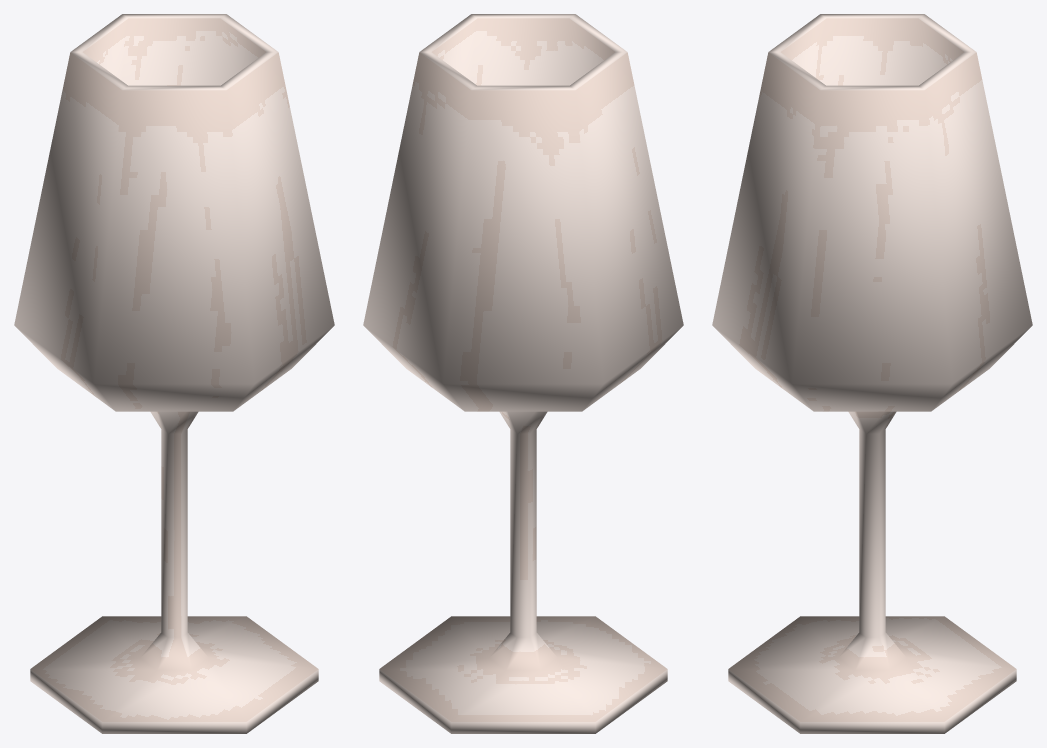
Rendered from ScaledGlassTest.glb.
The picture shows the model from 3 angles, left to right: view 1: azimuth 30°, elevation 25°; view 2: azimuth 150°, elevation 25°; view 3: azimuth 270°, elevation 25°; orthographic projection.
Visible parts, largest first — view 1: Cylinder; view 2: Cylinder; view 3: Cylinder.
Part boxes in pixels (x1,y1,x2,y2): Cylinder: [14, 14, 334, 733]; Cylinder: [363, 14, 683, 733]; Cylinder: [712, 14, 1032, 733].
Size of the model in its own units: 0.1386 by 0.3464 by 0.16.
1 material, 1 textured.
